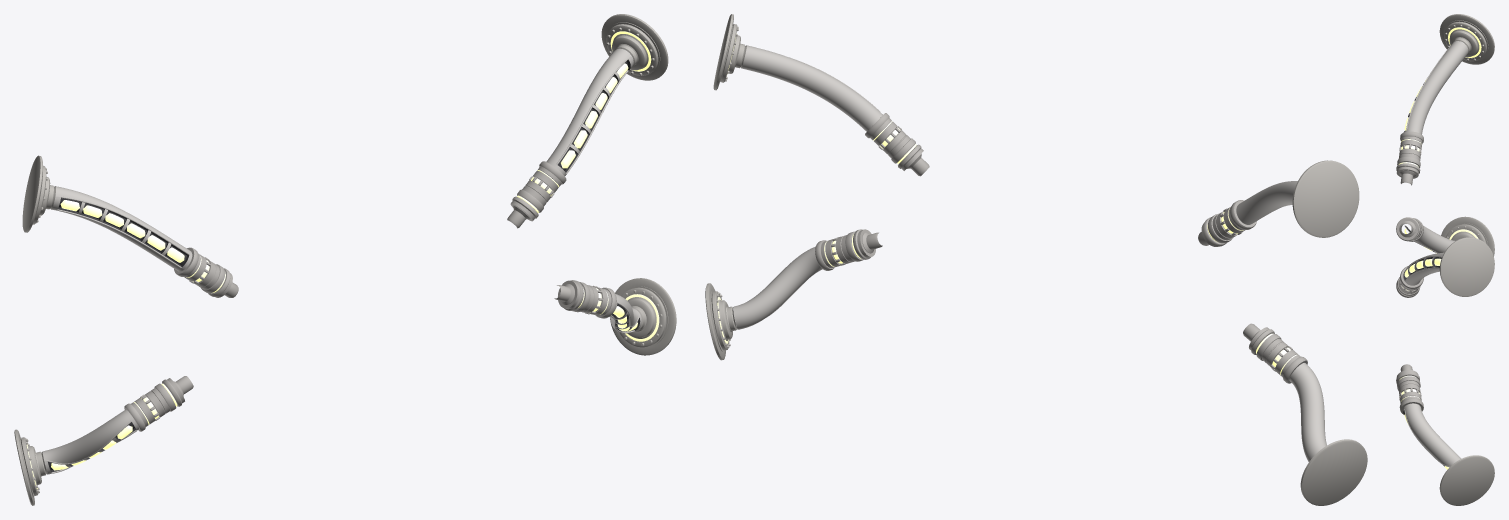
Rendered from conduit-tubes.glb.
3 renders of one model, left to right at view 1: azimuth 30°, elevation 25°; view 2: azimuth 150°, elevation 25°; view 3: azimuth 270°, elevation 25°, orthographic. The views are drawn at different scales.
Visible parts, largest first — view 1: flange-right-lower, flange-right-upper, pipe-right-upper, pipe-left-upper, pipe-left-lower, coupler-right-upper, coupler-left-lower, coupler-right-lower, flange-left-upper, coupler-left-upper, energy-right-upper, energy-left-upper (+2 smaller); view 2: flange-left-upper, pipe-right-upper, flange-left-lower, pipe-right-lower, pipe-left-lower, coupler-right-lower, coupler-right-upper, coupler-left-lower, pipe-left-upper, flange-right-lower, coupler-left-upper, flange-right-upper; view 3: flange-right-upper, flange-right-lower, pipe-left-upper, flange-left-upper, pipe-right-lower, coupler-left-upper, flange-left-lower, coupler-right-lower, pipe-left-lower, pipe-right-upper, coupler-left-lower, coupler-right-upper (+3 smaller).
Boxes of the visible parts, box(x1,y1,x2,y2) form: flange-right-lower: box(610, 278, 676, 355); flange-right-upper: box(601, 14, 668, 80); pipe-right-upper: box(546, 48, 633, 175); pipe-left-upper: box(52, 186, 192, 271); pipe-left-lower: box(42, 409, 138, 474); coupler-right-upper: box(507, 161, 566, 228); coupler-left-lower: box(124, 376, 193, 431); coupler-right-lower: box(554, 280, 616, 318); flange-left-upper: box(22, 155, 55, 232); coupler-left-upper: box(174, 247, 238, 297); energy-right-upper: box(517, 31, 651, 213); energy-left-upper: box(60, 200, 225, 293); flange-left-upper: box(1292, 160, 1359, 237); pipe-right-upper: box(742, 45, 882, 131); flange-left-lower: box(1300, 439, 1367, 505); pipe-right-lower: box(733, 246, 822, 329); pipe-left-lower: box(1289, 363, 1326, 461); coupler-right-lower: box(815, 229, 882, 270); coupler-right-upper: box(865, 113, 929, 176); coupler-left-lower: box(1243, 323, 1307, 383); pipe-left-upper: box(1236, 181, 1297, 224); flange-right-lower: box(705, 283, 737, 360); coupler-left-upper: box(1198, 200, 1256, 246); flange-right-upper: box(713, 14, 746, 90); flange-right-upper: box(1439, 237, 1494, 296); flange-right-lower: box(1439, 455, 1494, 505); pipe-left-upper: box(1404, 41, 1468, 134); flange-left-upper: box(1439, 14, 1494, 64); pipe-right-lower: box(1403, 403, 1461, 467); coupler-left-upper: box(1396, 131, 1423, 185); flange-left-lower: box(1441, 216, 1494, 256); coupler-right-lower: box(1396, 364, 1423, 414); pipe-left-lower: box(1404, 225, 1454, 253); pipe-right-upper: box(1403, 252, 1443, 285); coupler-left-lower: box(1396, 217, 1423, 241); coupler-right-upper: box(1396, 266, 1423, 297).
Bounding box in the file's own units: 10.44 × 5.2 × 1.76.
